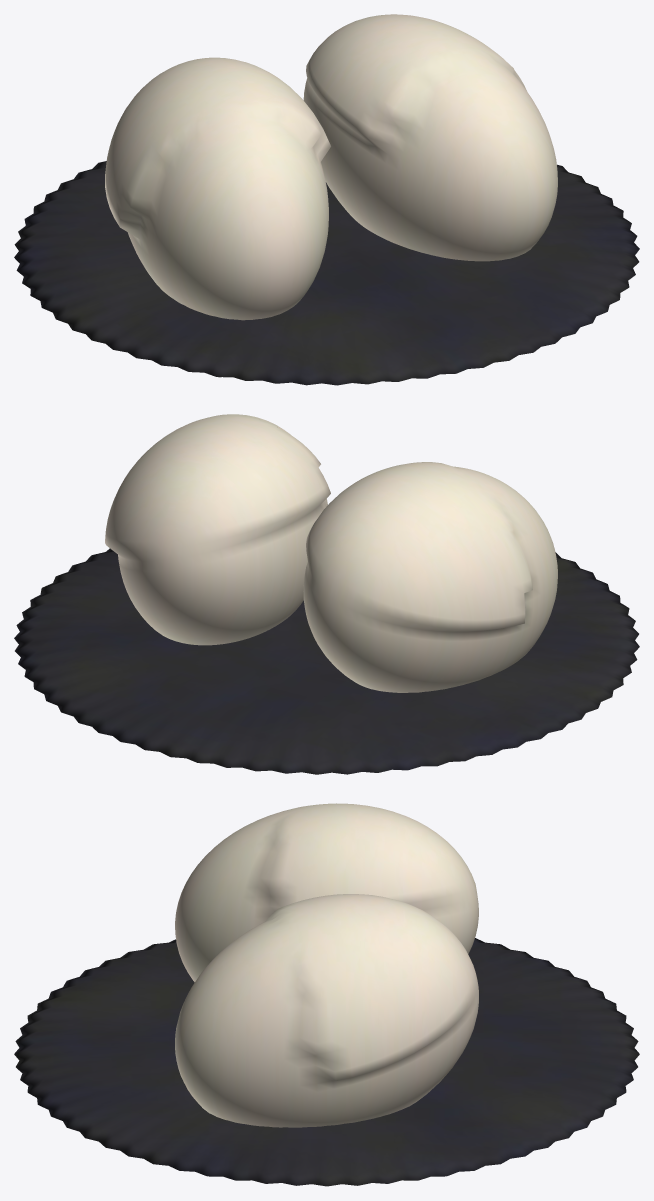
Rendered from butter-chicken-bao-high.glb.
3 renders of one model, top to bottom at view 1: azimuth 30°, elevation 25°; view 2: azimuth 150°, elevation 25°; view 3: azimuth 270°, elevation 25°, orthographic.
Parts seen in each view (by area): view 1: Mesh_Steamed_Gua_Bao_Buns, Mesh_Charcoal_Slate_Platter; view 2: Mesh_Steamed_Gua_Bao_Buns, Mesh_Charcoal_Slate_Platter; view 3: Mesh_Steamed_Gua_Bao_Buns, Mesh_Charcoal_Slate_Platter.
Part boxes in pixels (bbox=[...]): Mesh_Steamed_Gua_Bao_Buns: bbox=[105, 14, 557, 320]; Mesh_Charcoal_Slate_Platter: bbox=[14, 161, 639, 385]; Mesh_Steamed_Gua_Bao_Buns: bbox=[105, 414, 557, 692]; Mesh_Charcoal_Slate_Platter: bbox=[14, 548, 639, 774]; Mesh_Steamed_Gua_Bao_Buns: bbox=[175, 803, 478, 1127]; Mesh_Charcoal_Slate_Platter: bbox=[14, 938, 639, 1186].
Bounding box in the file's own units: 2 × 0.7778 × 2.
Materials: 4 (4 with a texture image).
